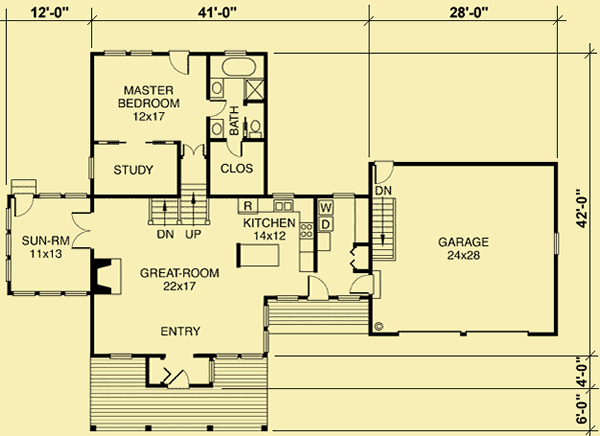door: (67, 206, 96, 252), (305, 272, 332, 305), (163, 47, 193, 76), (371, 157, 396, 187), (347, 272, 378, 296), (12, 192, 38, 220), (165, 367, 191, 392), (179, 138, 207, 161), (224, 137, 248, 159), (207, 98, 228, 119)
kitchen bar: (233, 239, 285, 272)
large sink: (247, 117, 265, 142)
small sink: (208, 77, 226, 100), (209, 117, 225, 139)
stairs: (145, 181, 216, 242), (369, 195, 400, 264)
tub: (209, 52, 265, 82)
windows: (2, 204, 16, 285), (10, 287, 88, 300), (37, 189, 90, 205), (100, 46, 159, 60), (260, 302, 272, 354), (215, 351, 265, 361), (550, 223, 562, 261), (84, 153, 99, 182), (274, 292, 302, 304), (269, 189, 297, 200), (222, 47, 250, 58), (328, 191, 356, 201), (106, 352, 134, 361)
